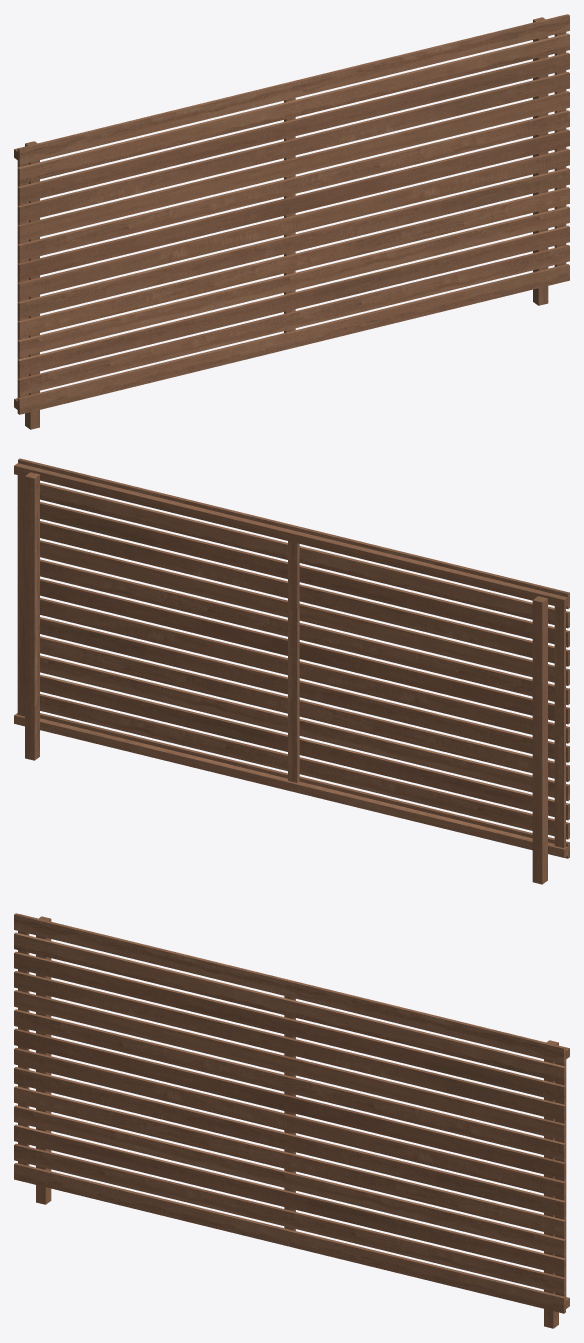
The model's file is EAF-plus-53_w1999-h1000_jara.fbx.
3 renders of one model, top to bottom at view 1: azimuth 30°, elevation 25°; view 2: azimuth 150°, elevation 25°; view 3: azimuth 330°, elevation 25°, orthographic.
Visible parts, largest first — view 1: EAF-plus-53_w1999-h1000_chacoalgray.003; view 2: EAF-plus-53_w1999-h1000_chacoalgray.003; view 3: EAF-plus-53_w1999-h1000_chacoalgray.003.
Part boxes in pixels (x1=…): EAF-plus-53_w1999-h1000_chacoalgray.003: x1=14, y1=14, x2=569, y2=429; EAF-plus-53_w1999-h1000_chacoalgray.003: x1=14, y1=458, x2=569, y2=884; EAF-plus-53_w1999-h1000_chacoalgray.003: x1=14, y1=913, x2=569, y2=1328.
Bounding box in the file's own units: 200 × 99.97 × 7.
1 material, 1 textured.
